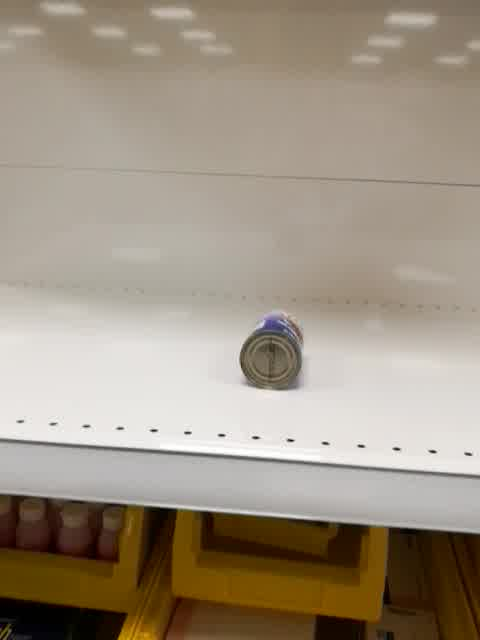sardine: (237, 307, 307, 393)
